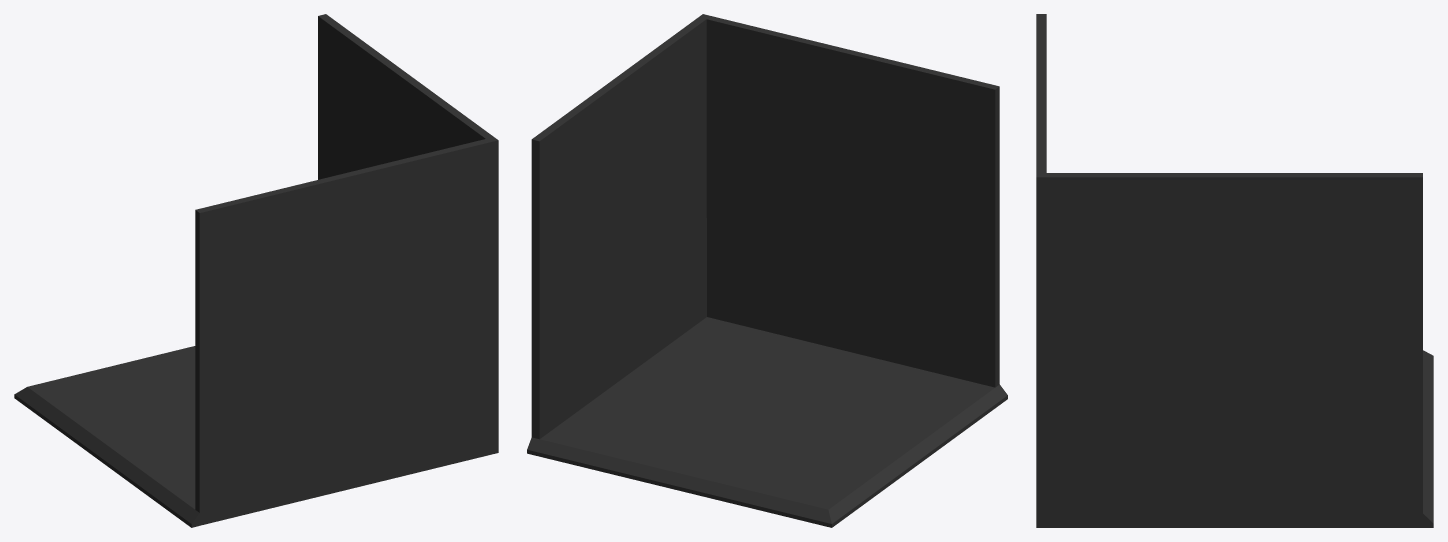
File: LDisplay.fbx
3 views of the same model, side by side, from view 1: azimuth 30°, elevation 25°; view 2: azimuth 150°, elevation 25°; view 3: azimuth 270°, elevation 25° (orthographic). The views are drawn at different scales.
Visible parts, largest first — view 1: Cube.020; view 2: Cube.020; view 3: Cube.020.
Boxes of the visible parts, x1,y1,x2,y2 form: Cube.020: [14, 14, 498, 527]; Cube.020: [527, 14, 1007, 527]; Cube.020: [1036, 14, 1433, 527].
Bounding box in the file's own units: 205 × 200 × 205.
1 material, 1 textured.
